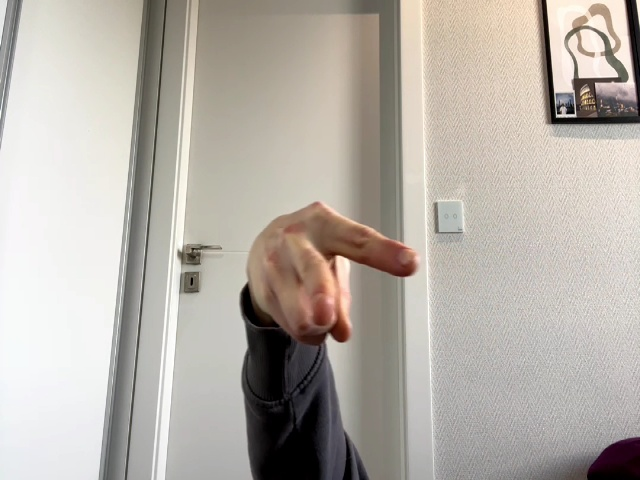U: (247, 202, 419, 345)
